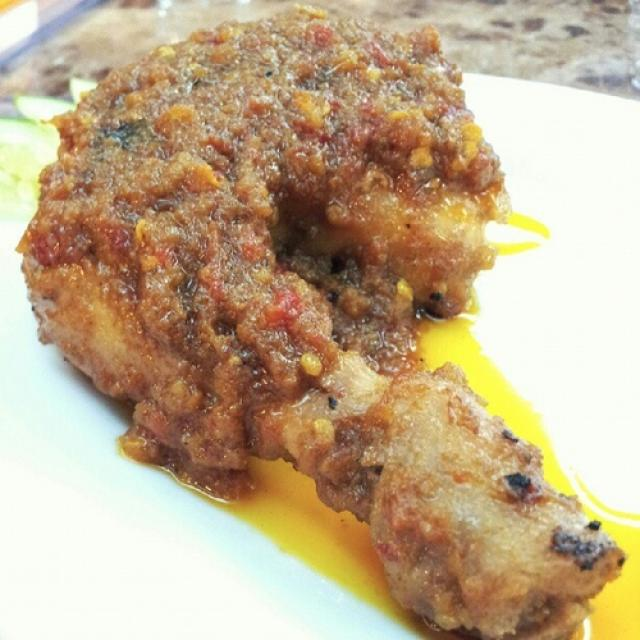鸡肉料理 含炸鸡: (33, 23, 631, 618)
